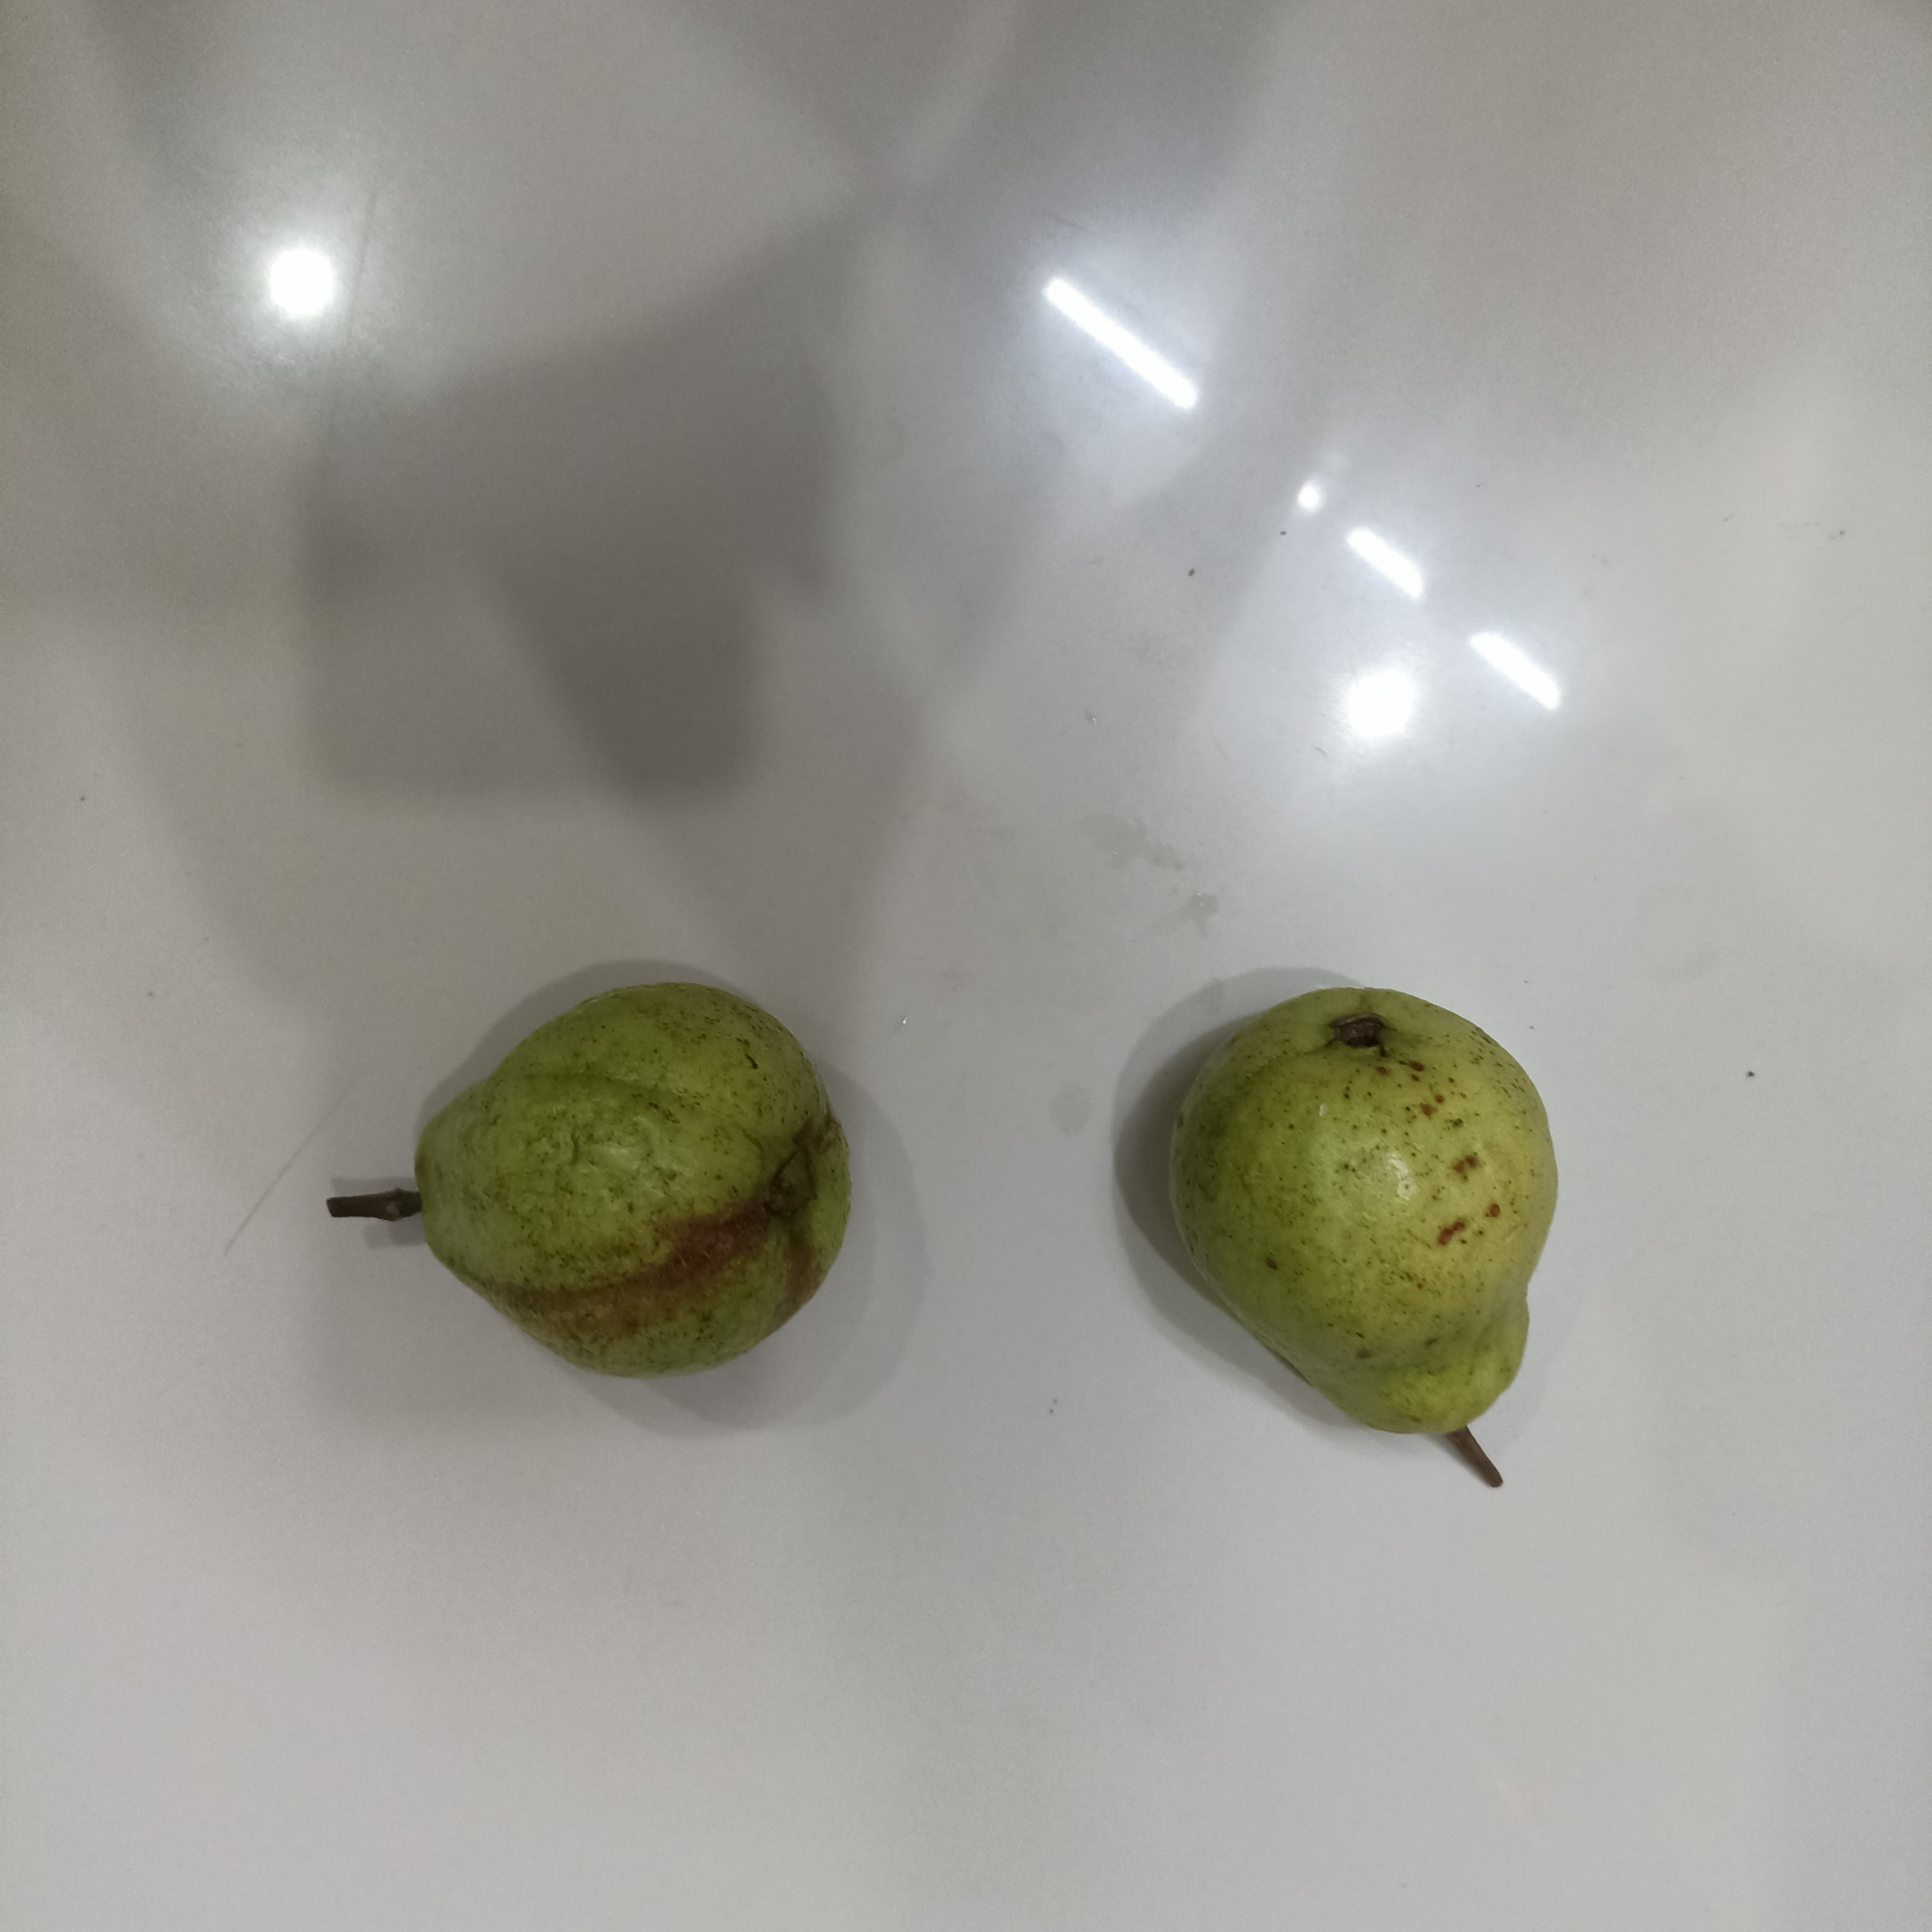Oi: (341, 984, 849, 1387), (1168, 984, 1564, 1442)
